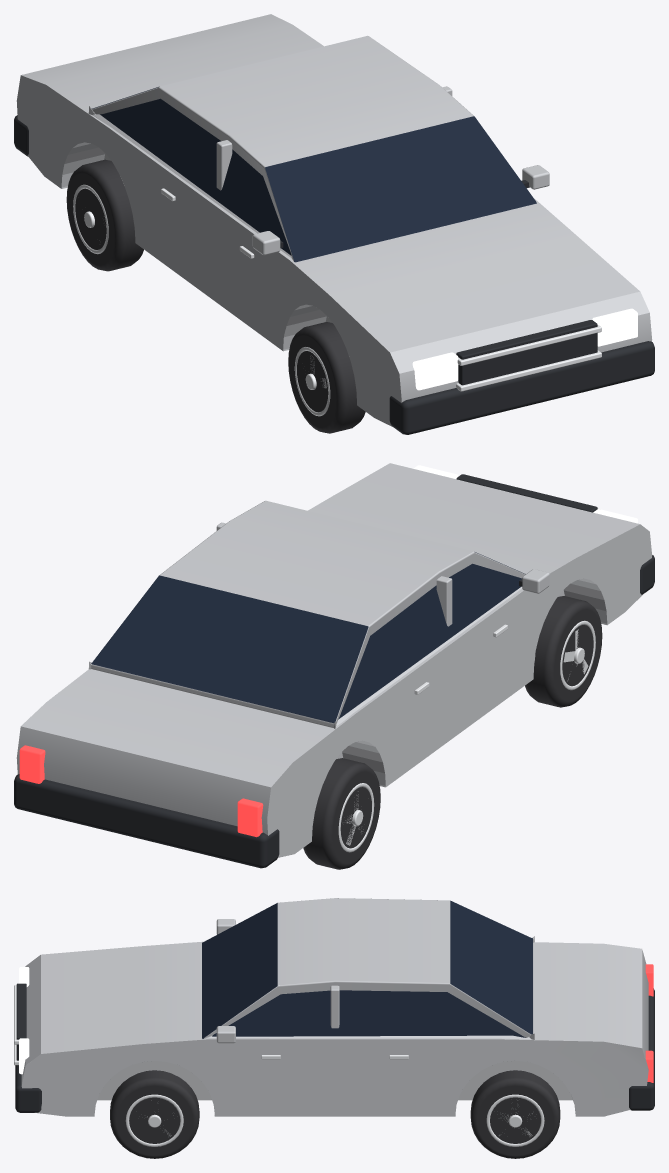
Rendered from sedan.glb.
3 views of the same model, one above another, from view 1: azimuth 30°, elevation 25°; view 2: azimuth 150°, elevation 25°; view 3: azimuth 270°, elevation 25° (orthographic). The views are drawn at different scales.
Visible parts, largest first — view 1: body_paint, body_trim, wheel_FR, wheel_RR; view 2: body_paint, body_trim, wheel_FR, wheel_RR; view 3: body_paint, body_trim, wheel_RL, wheel_FL.
Boxes of the visible parts, x1,y1,x2,y2 form: body_paint: (16, 14, 652, 427); body_trim: (14, 86, 654, 434); wheel_FR: (288, 322, 365, 433); wheel_RR: (66, 159, 143, 271); body_paint: (16, 463, 652, 857); body_trim: (14, 465, 654, 868); wheel_FR: (525, 596, 602, 707); wheel_RR: (303, 758, 380, 869); body_paint: (21, 898, 648, 1116); body_trim: (14, 900, 654, 1112); wheel_RL: (470, 1070, 560, 1158); wheel_FL: (110, 1070, 199, 1158).
Size of the model in its own units: 2.11 by 1.46 by 5.01.
